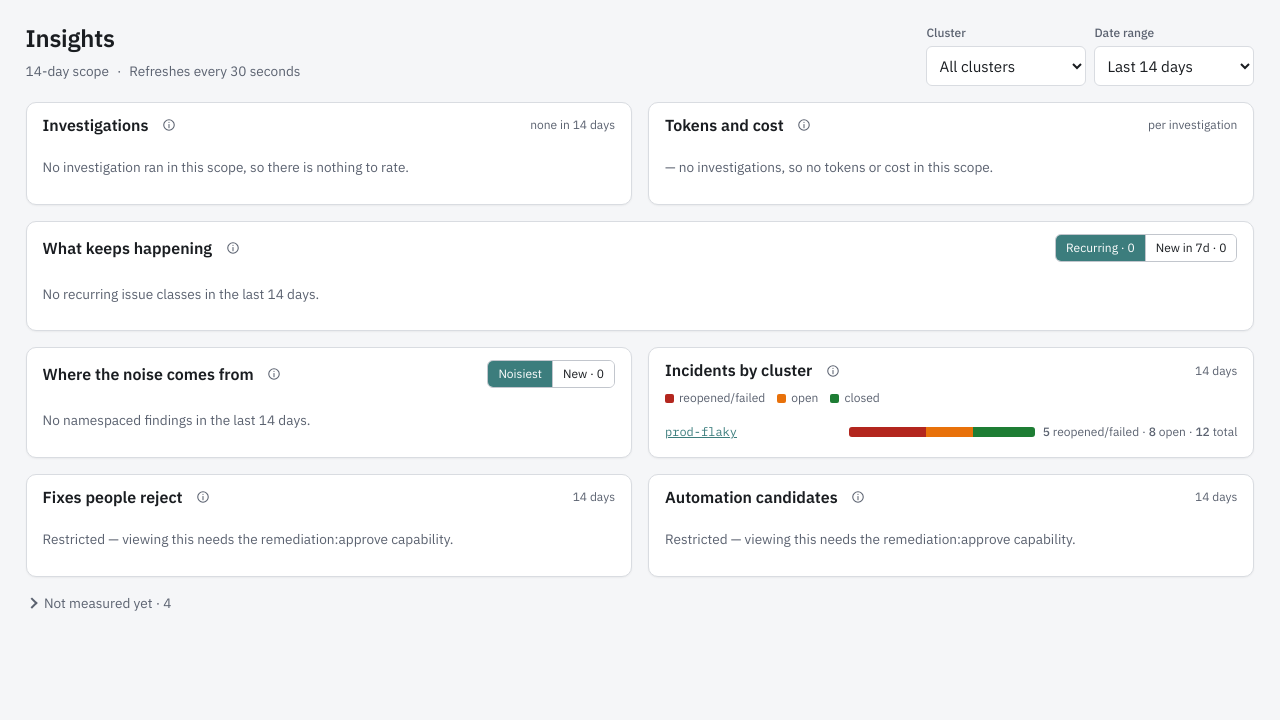
InsightsPage — new in this window (BUGS.md 121 part b) › shows a scope-aware empty message that does not claim the date-range selector helps (this list ignores it)
Check: the heading "What keeps happening" is shown, box top-left (43, 238), bottom-right (212, 258)
Click the button "New in 7d · 0". click: (1191, 248)
box: top-left (1146, 235), bottom-right (1236, 261)
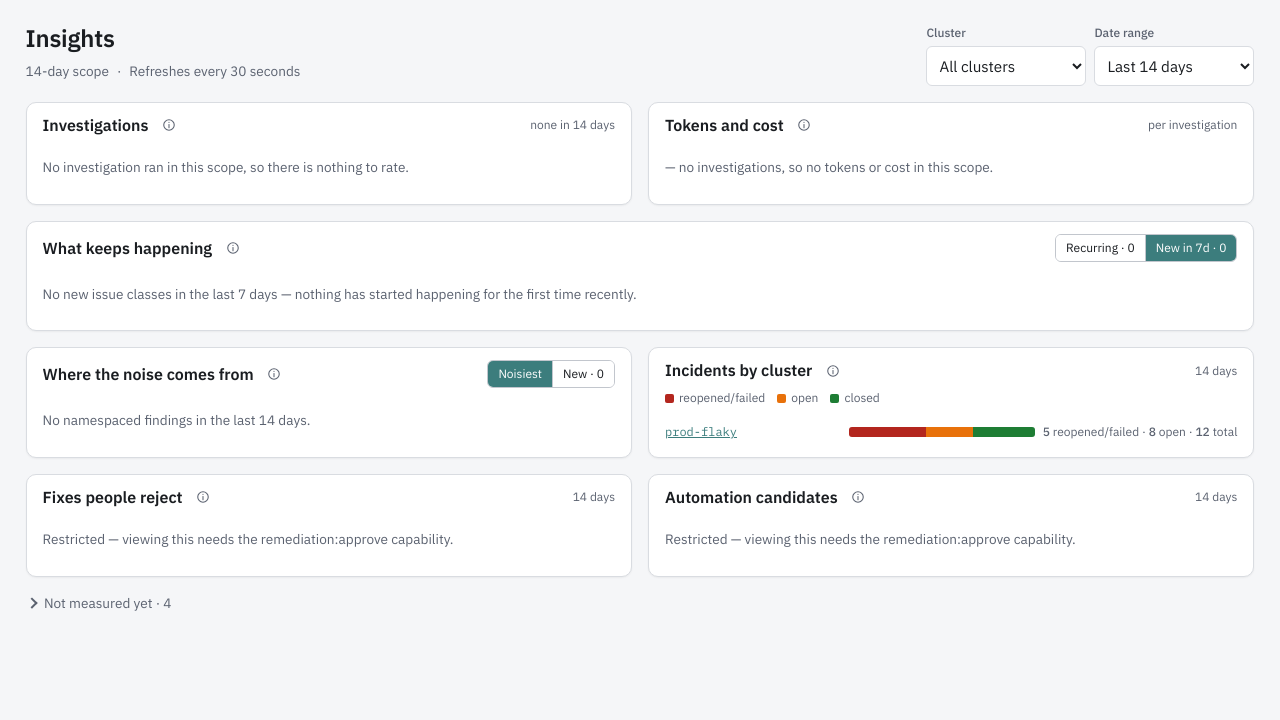
Click the button "New · 0". click: (584, 374)
box: top-left (553, 361), bottom-right (614, 387)
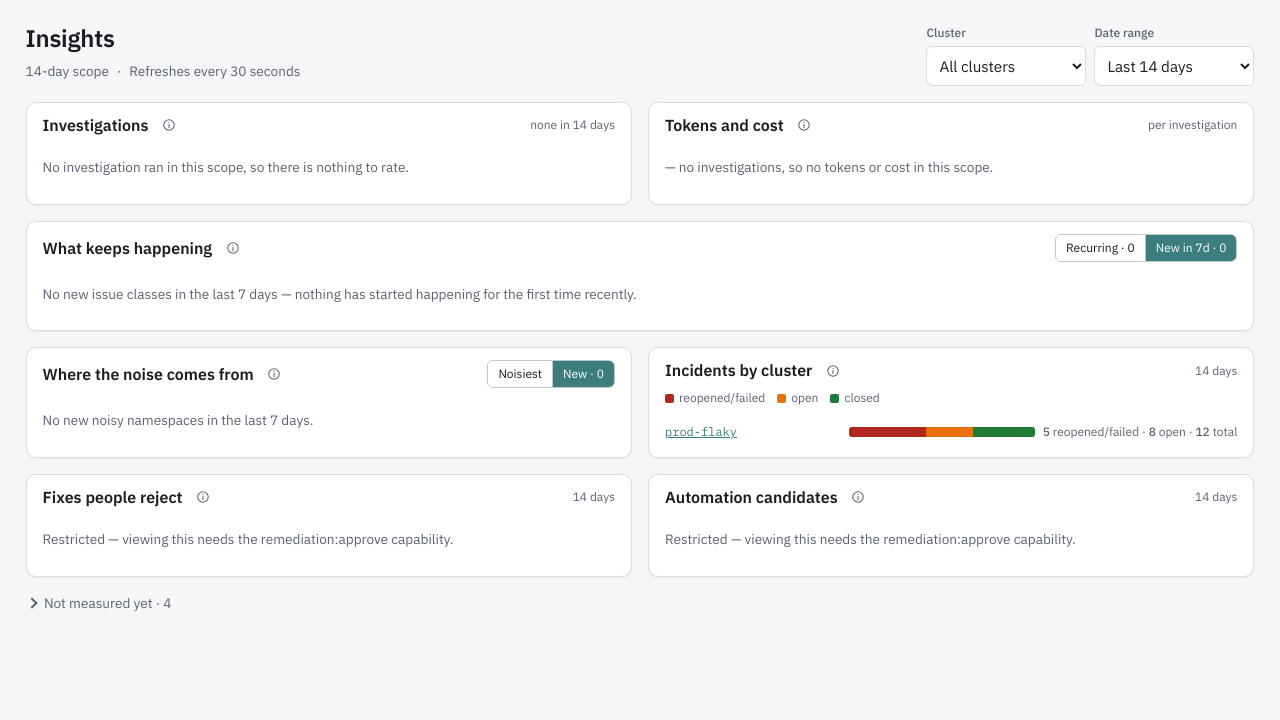
Check: the text "No new issue classes in the last 7 days" is shown, box top-left (43, 285), bottom-right (637, 303)
Check: the text "No new noisy namespaces in the last 7 days." is shown, box top-left (43, 411), bottom-right (313, 429)
